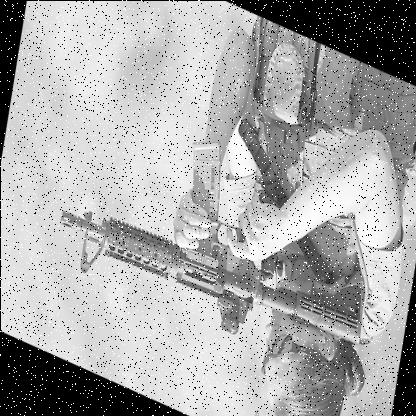rifle: (46, 79, 380, 374)
